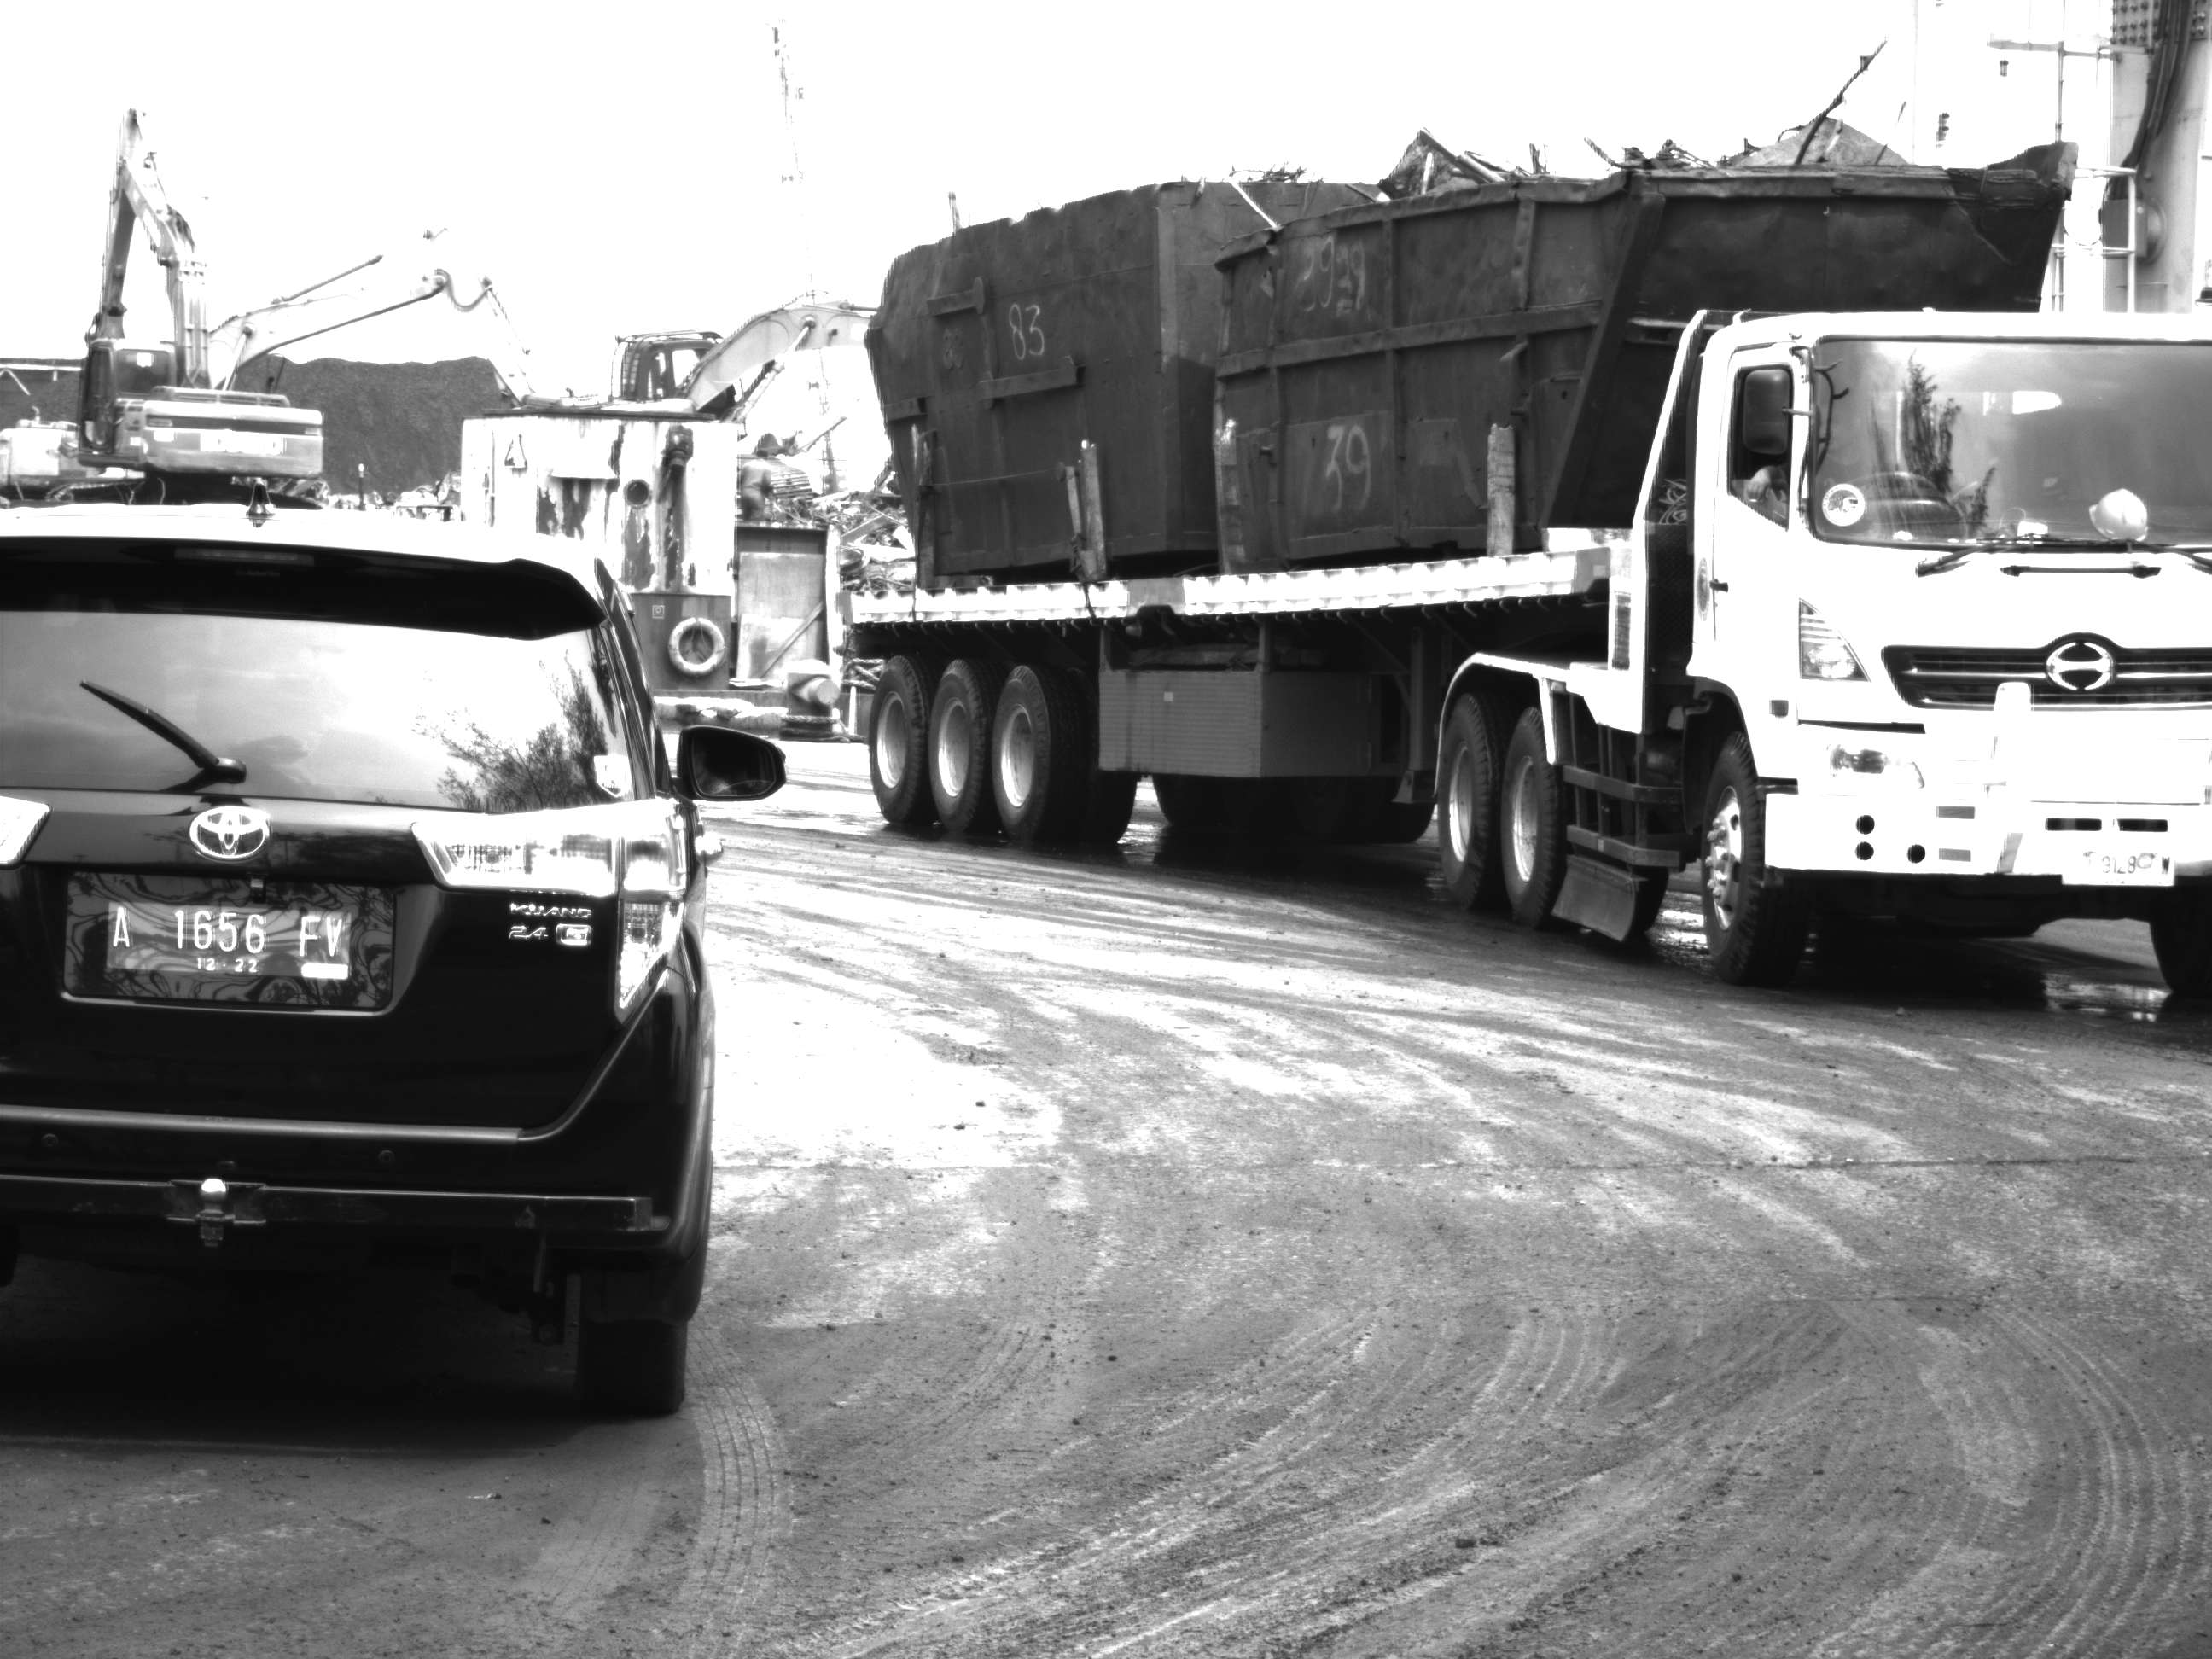day_small_rear: (1, 499, 791, 1442)
day_truck_front: (1691, 267, 2212, 1001)
plate: (103, 898, 356, 987), (2063, 841, 2176, 891)
